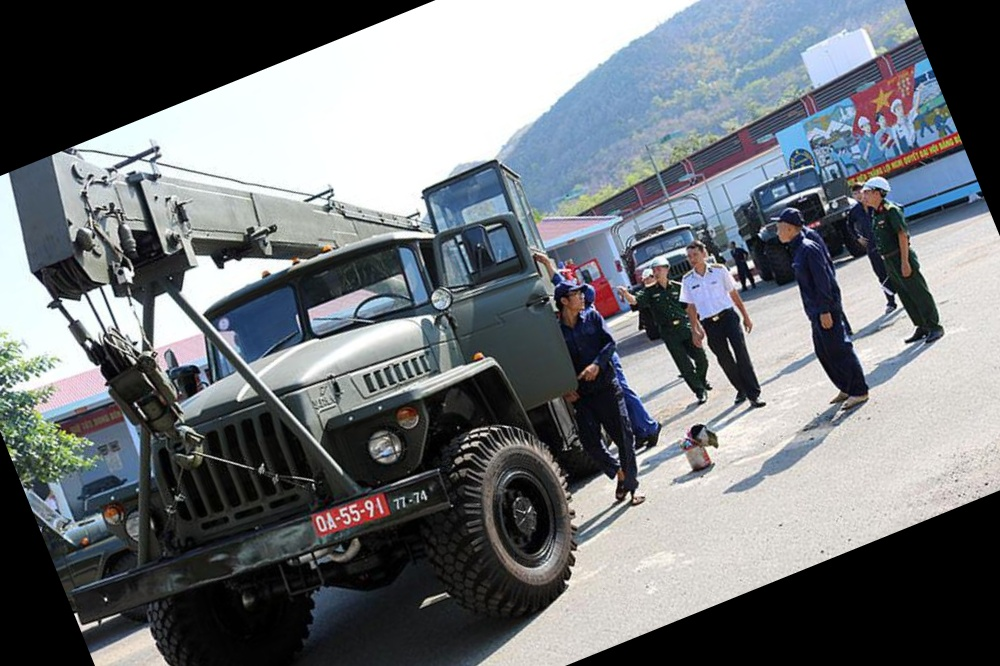plate: (310, 483, 387, 535)
